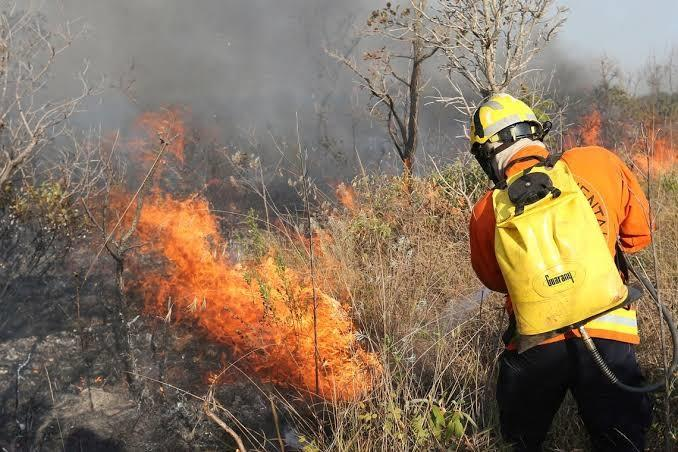fire: (230, 297, 336, 374), (136, 206, 217, 304)
smoke: (174, 7, 290, 100)
